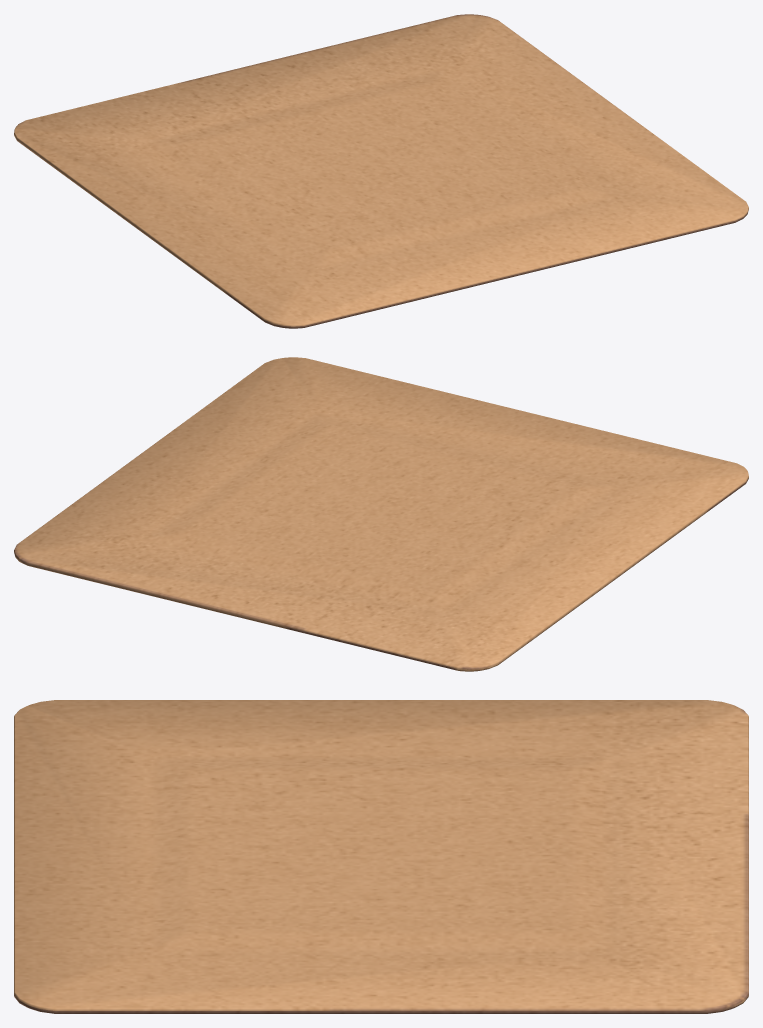
File: Plaster_Square.fbx
3 renders of one model, top to bottom at view 1: azimuth 30°, elevation 25°; view 2: azimuth 150°, elevation 25°; view 3: azimuth 270°, elevation 25°, orthographic. The views are drawn at different scales.
Visible parts, largest first — view 1: Plaster_Square; view 2: Plaster_Square; view 3: Plaster_Square.
Boxes of the visible parts, left/top/right/bottom form: Plaster_Square: left=14, top=14, right=748, bottom=328; Plaster_Square: left=14, top=357, right=748, bottom=671; Plaster_Square: left=14, top=700, right=748, bottom=1013.
Size of the model in its own units: 4.01 by 0.1178 by 4.02.
1 material, 1 textured.
